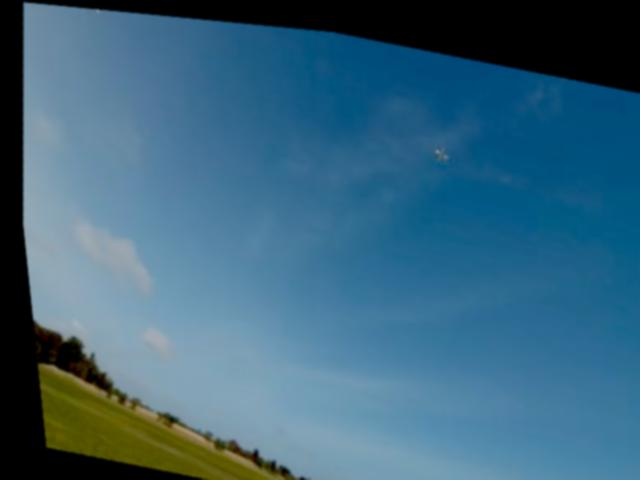uav: (428, 130, 452, 159)
